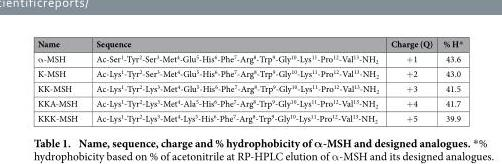table: (36, 36, 462, 124)
table column: (86, 36, 384, 124), (384, 36, 437, 124), (36, 36, 86, 124), (437, 36, 462, 124)
table column header: (36, 36, 462, 51)
table row: (36, 36, 462, 51), (36, 51, 462, 66), (36, 66, 462, 81), (36, 95, 462, 110), (36, 81, 462, 95), (36, 110, 462, 124)
